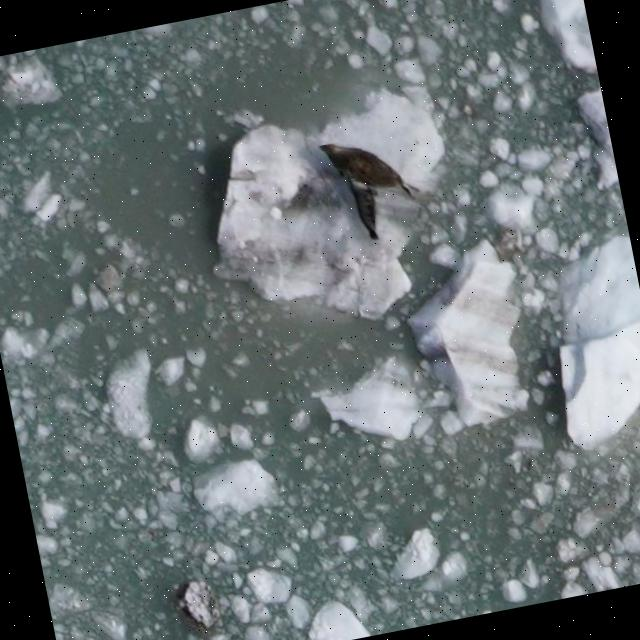seal: (311, 136, 427, 203), (348, 176, 386, 242)
